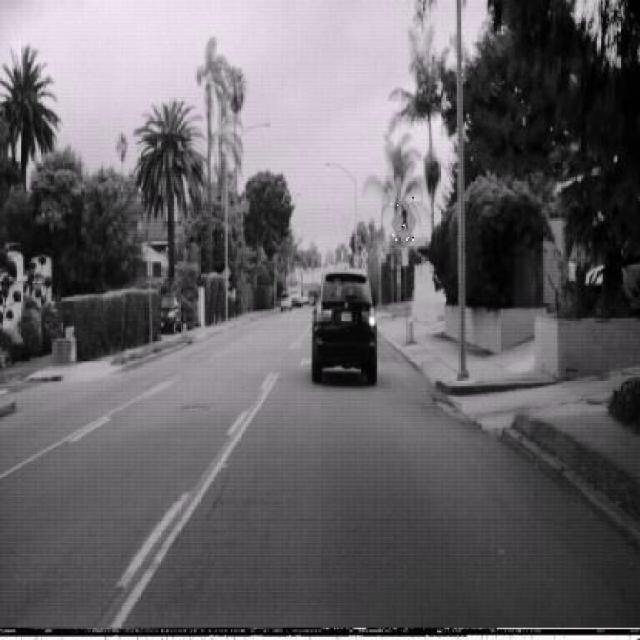pedestrianCrossing: (391, 195, 417, 245)
